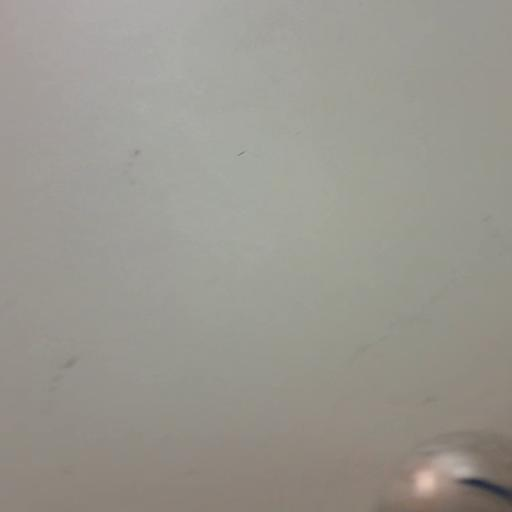alive: (379, 435, 512, 511)
